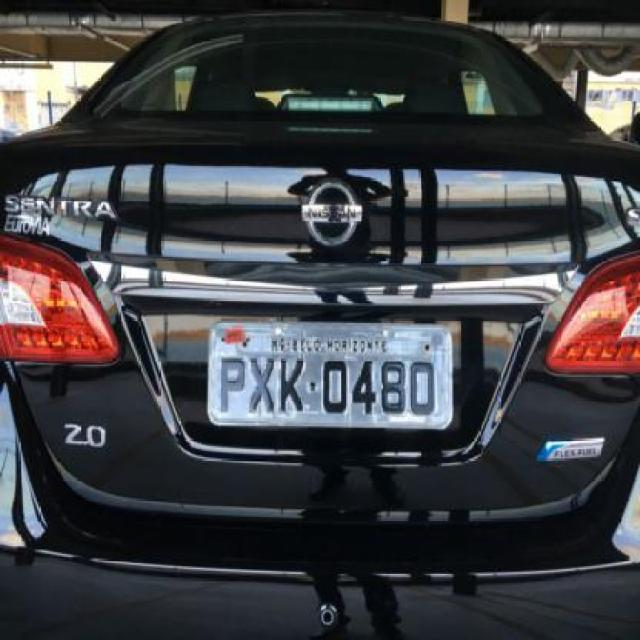old_plate: (199, 313, 467, 437)
